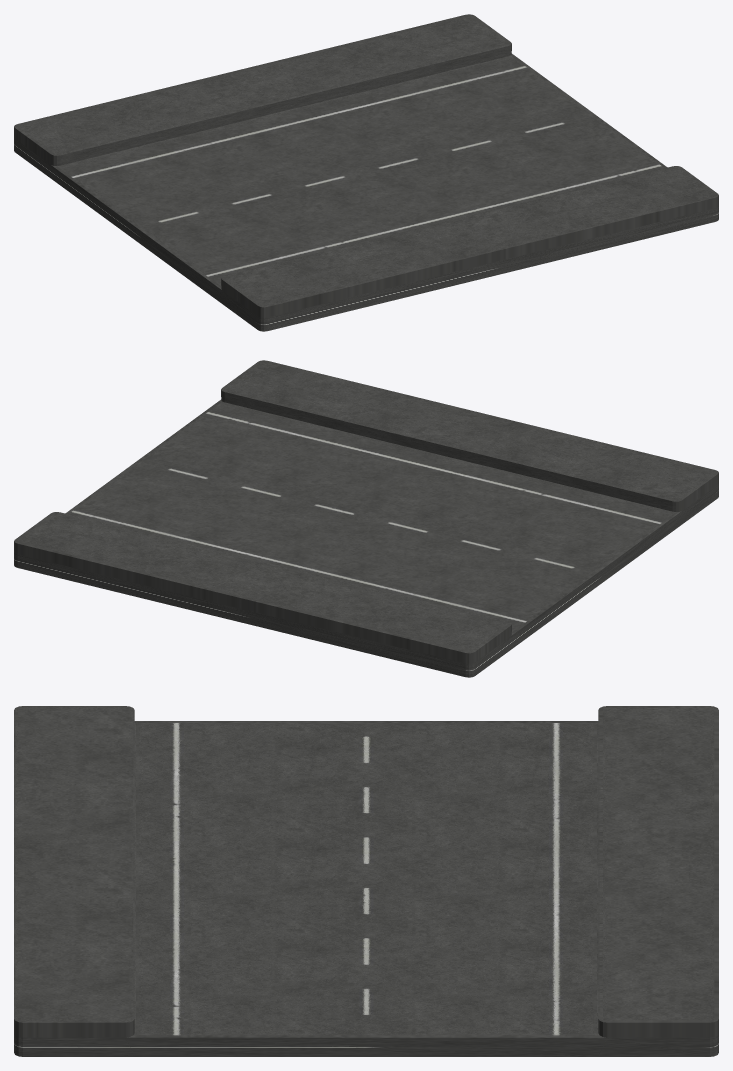
File: DrogaProsta.fbx
3 renders of one model, top to bottom at view 1: azimuth 30°, elevation 25°; view 2: azimuth 150°, elevation 25°; view 3: azimuth 270°, elevation 25°, orthographic. The views are drawn at different scales.
Visible parts, largest first — view 1: Cube; view 2: Cube; view 3: Cube.
Part boxes in pixels (x1,y1,x2,y2): Cube: (14,14,718,331); Cube: (14,360,718,677); Cube: (14,706,718,1056).
Bounding box in the file's own units: 948 × 48.6 × 892.
